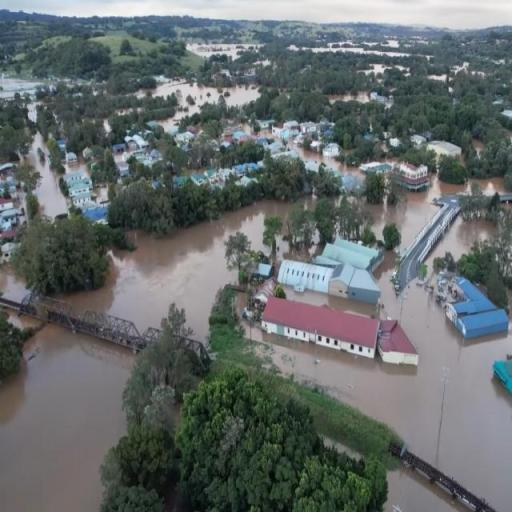flood: (253, 253, 512, 512), (58, 200, 293, 342), (0, 324, 134, 512), (0, 325, 134, 512), (367, 176, 465, 250), (427, 218, 498, 272), (387, 469, 466, 512), (28, 136, 68, 216), (0, 75, 44, 122), (155, 82, 219, 112), (297, 148, 361, 175), (288, 46, 412, 56), (186, 44, 264, 59), (0, 266, 26, 300), (242, 122, 282, 140), (224, 85, 259, 104), (361, 63, 410, 76), (329, 90, 370, 103), (161, 111, 187, 128), (479, 178, 505, 192), (66, 163, 90, 178), (451, 62, 470, 74), (428, 74, 450, 81), (113, 153, 126, 163), (386, 39, 399, 47)
house: (266, 284, 380, 366), (442, 276, 508, 346), (329, 262, 379, 313), (280, 255, 337, 298), (324, 236, 384, 275), (422, 138, 464, 172), (395, 160, 429, 198), (491, 352, 512, 402), (67, 174, 94, 210), (0, 196, 13, 244)
